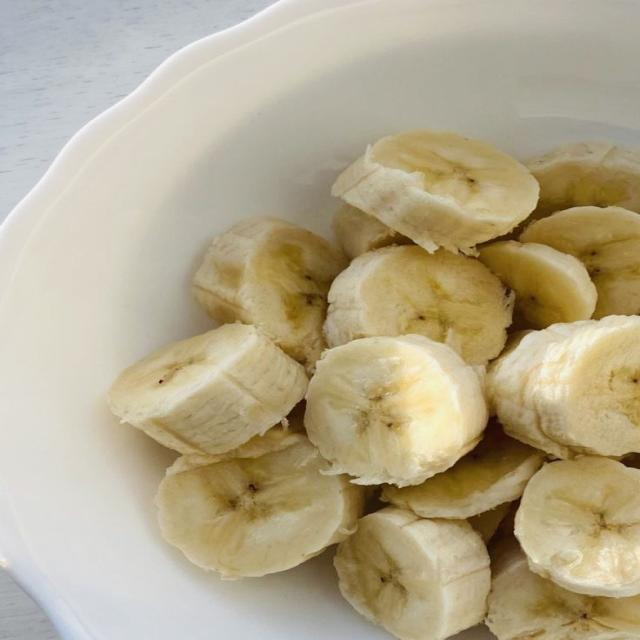banana slice: (157, 430, 363, 578), (305, 335, 487, 486), (109, 324, 307, 454), (333, 131, 538, 252), (194, 217, 346, 366), (325, 246, 513, 364), (488, 316, 639, 458), (334, 507, 490, 639), (515, 457, 639, 597), (486, 539, 639, 639), (382, 426, 546, 518), (520, 207, 639, 317), (487, 323, 580, 458), (480, 241, 597, 328), (528, 143, 639, 216), (334, 205, 411, 259), (468, 503, 513, 544), (490, 501, 519, 552), (622, 454, 639, 469)
